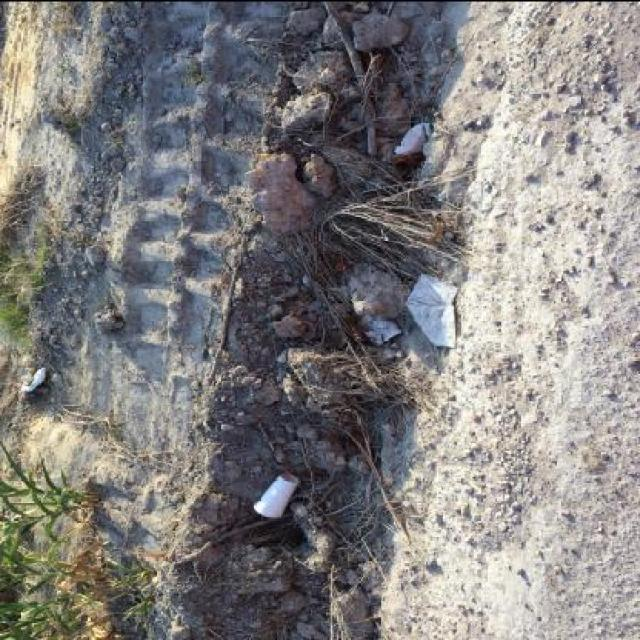cardboard: (254, 472, 300, 518)
